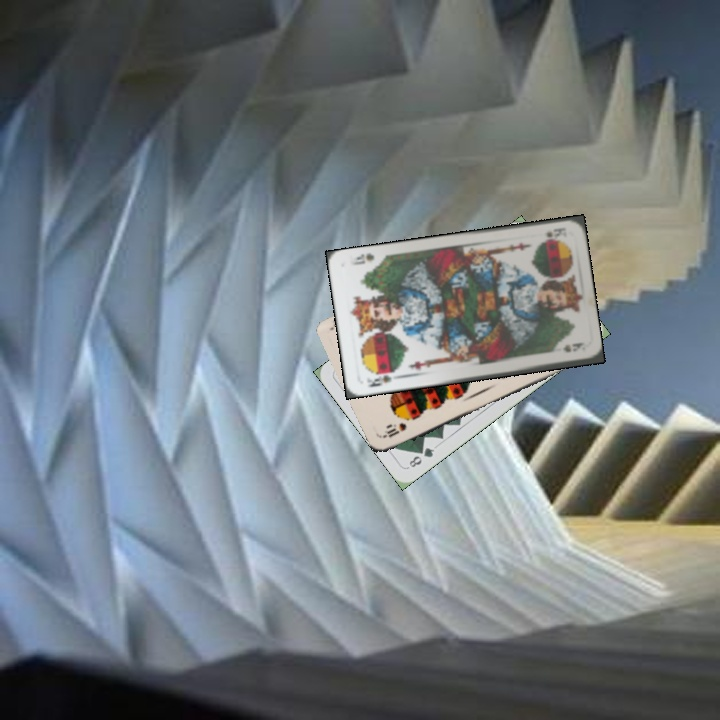G8: (405, 443, 437, 470)
S10: (380, 419, 409, 440)
SK: (363, 367, 398, 390), (536, 223, 569, 244)
